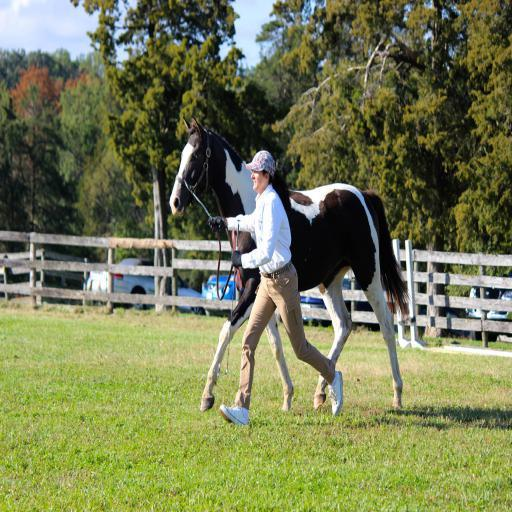Horse: (168, 114, 412, 412)
